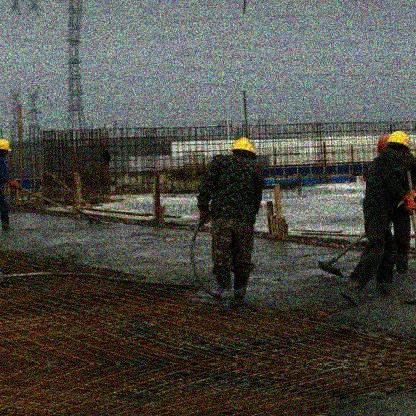helmet: (230, 137, 256, 161), (388, 132, 410, 154), (1, 140, 10, 159)
